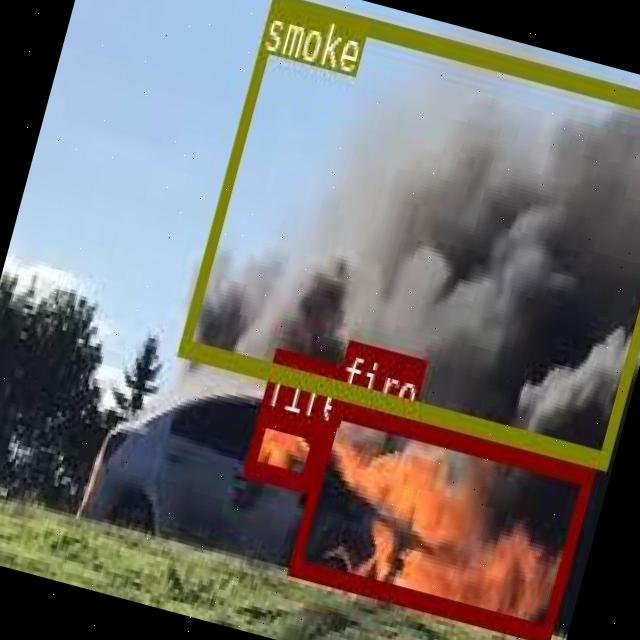fire: (286, 397, 594, 639), (242, 406, 324, 486)
smoke: (177, 0, 640, 465)
